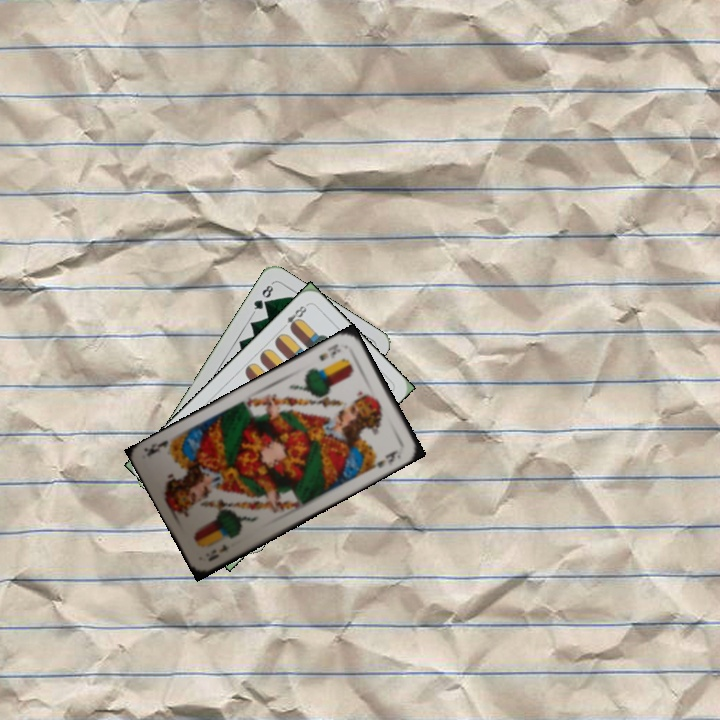E8: (277, 301, 310, 333)
EK: (315, 340, 343, 363), (204, 540, 230, 564)
G8: (249, 279, 276, 316)
